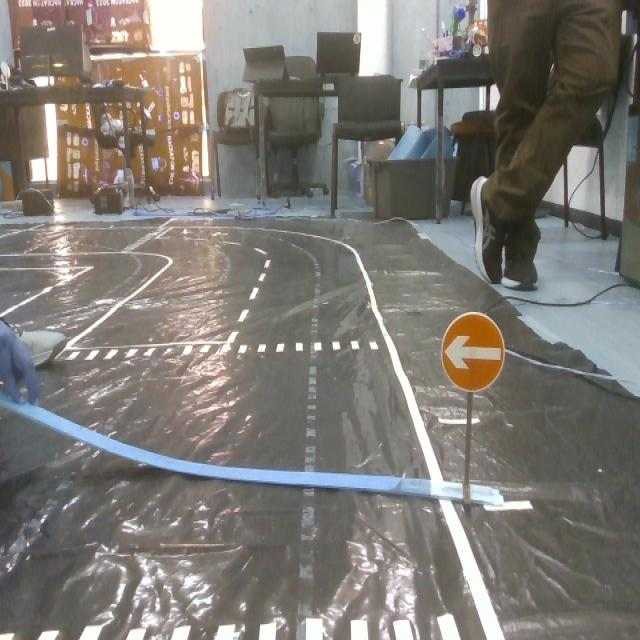forward: (439, 306, 510, 393)
